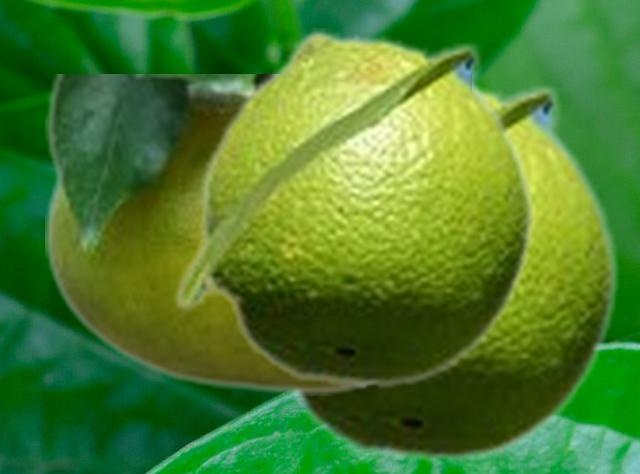dalandan: (171, 28, 537, 390), (284, 77, 621, 465), (45, 74, 377, 394)
